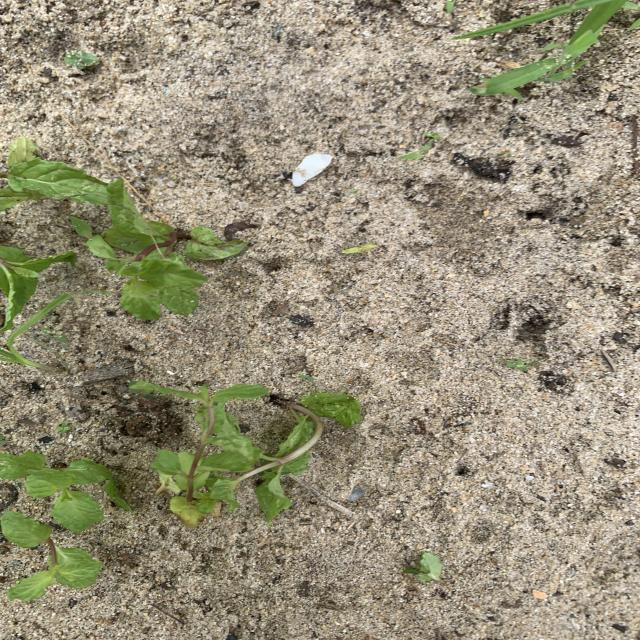crop: (136, 383, 360, 527), (72, 180, 246, 319), (0, 452, 130, 531), (0, 136, 127, 211), (2, 512, 100, 600), (0, 245, 74, 331)
weed: (470, 0, 629, 100), (0, 293, 77, 373), (453, 1, 596, 39), (65, 51, 98, 69), (505, 358, 540, 371), (343, 244, 378, 253), (55, 423, 72, 434)
